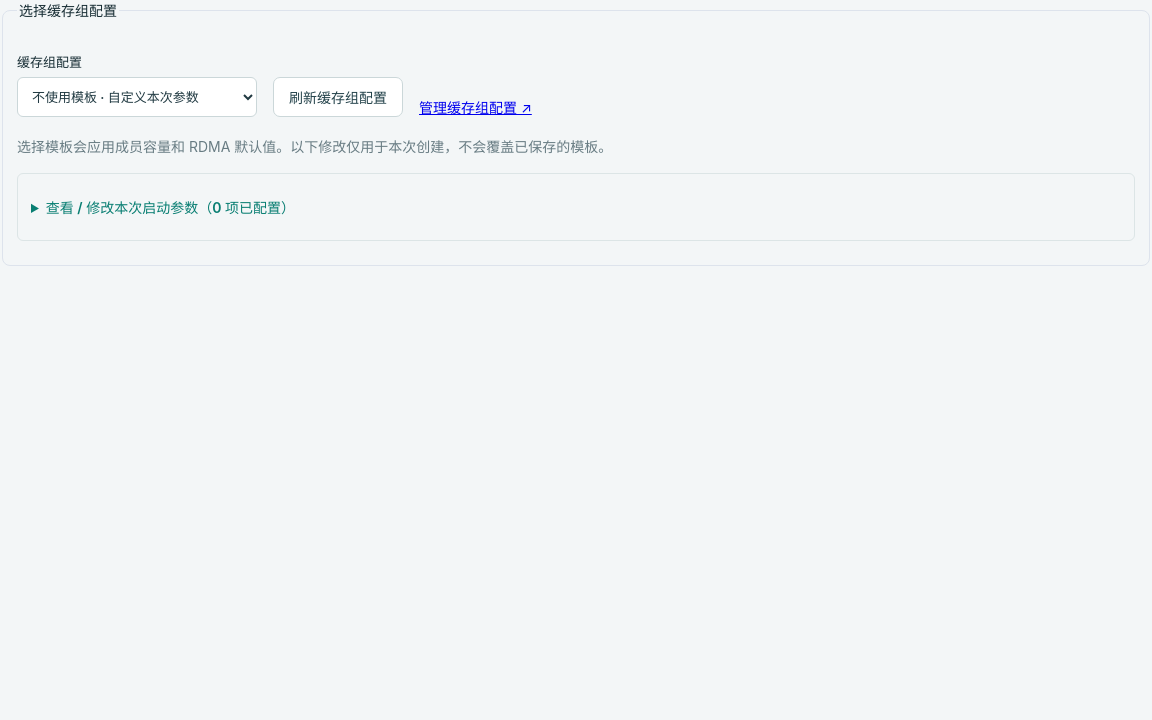
cache profile save rejects duplicate names locally
Step 1. Click the heading "查看 / 修改本次启动参数（0 项已配置）" → (170, 207), box [46, 199, 295, 216]
(page scrolled)
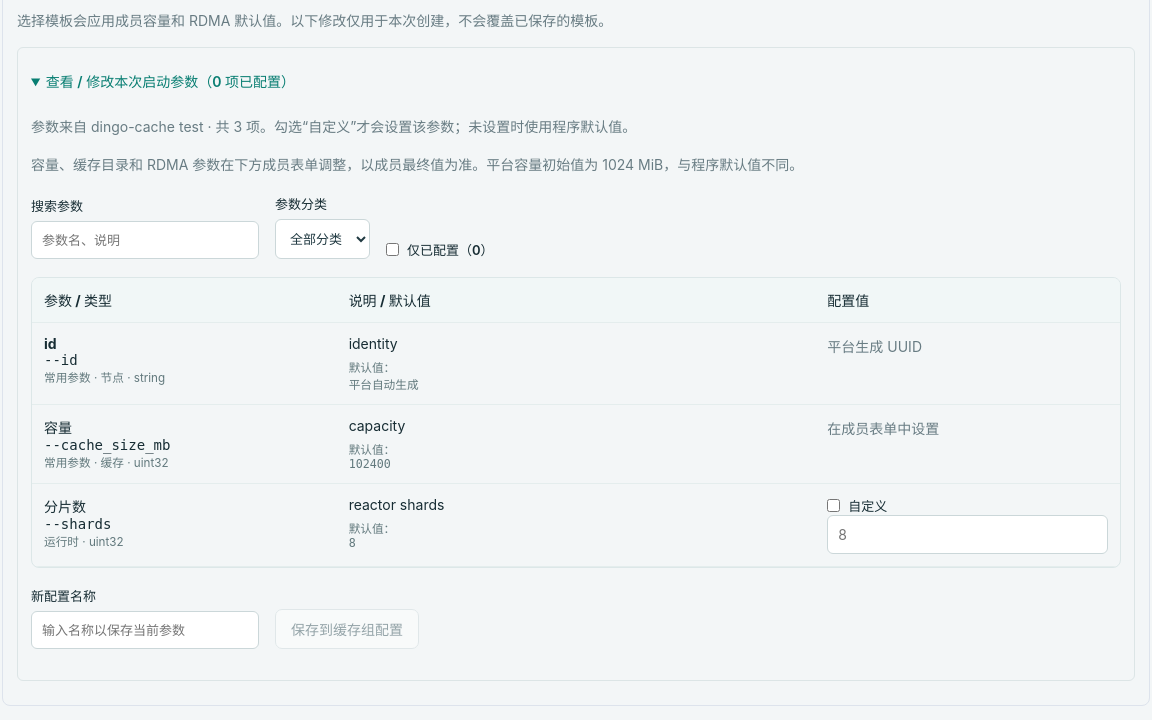
Step 2. Type "标准缓存" into the field labelled "新配置名称" → (145, 630), box [31, 611, 259, 649]
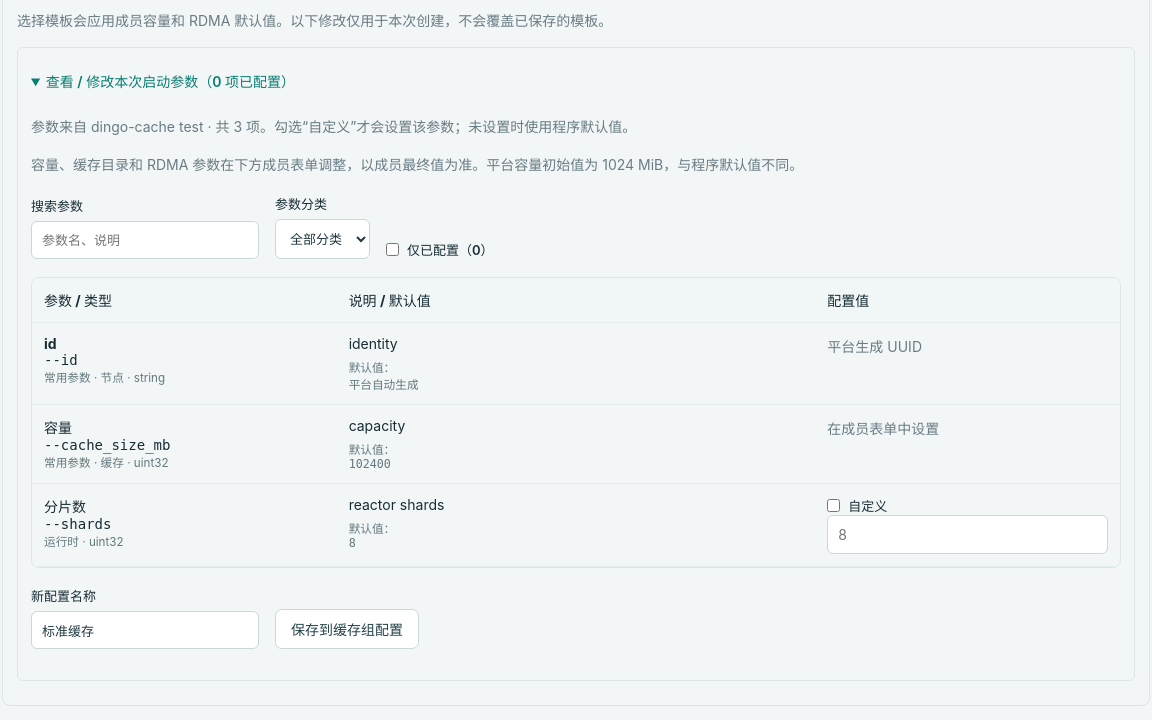
Step 3. Click the button "保存到缓存组配置" → (347, 629), box [275, 609, 419, 649]
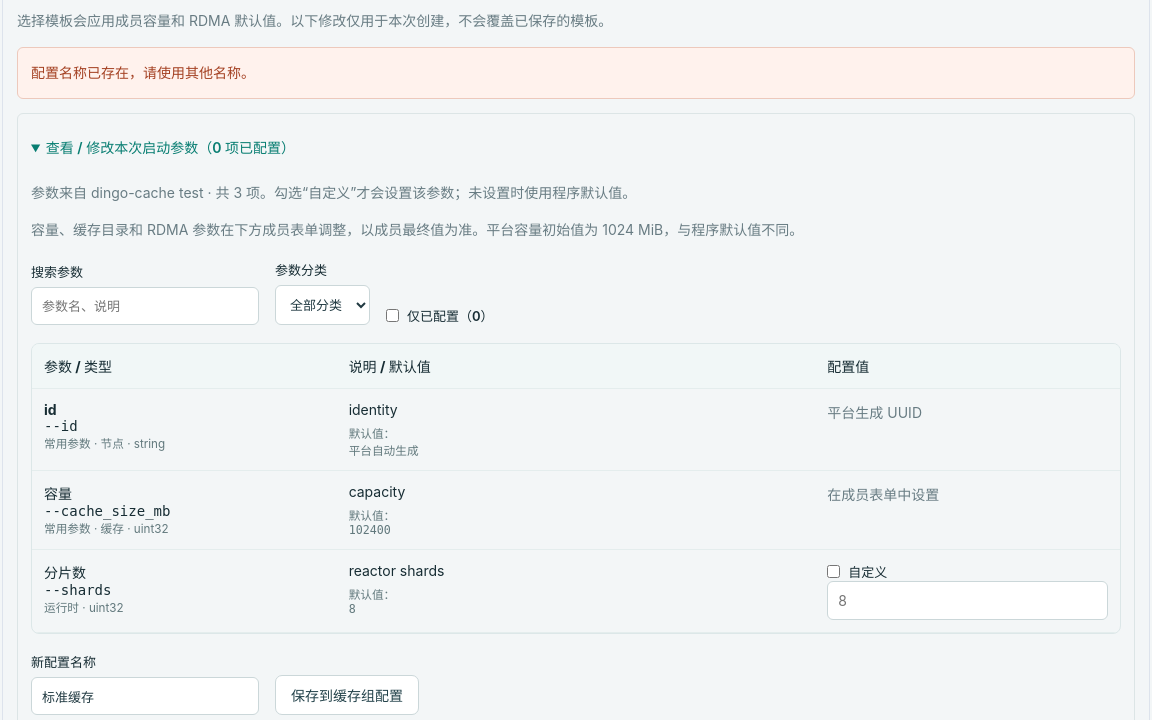
expect the message shows "名称已存在": met, box [31, 64, 255, 81]
